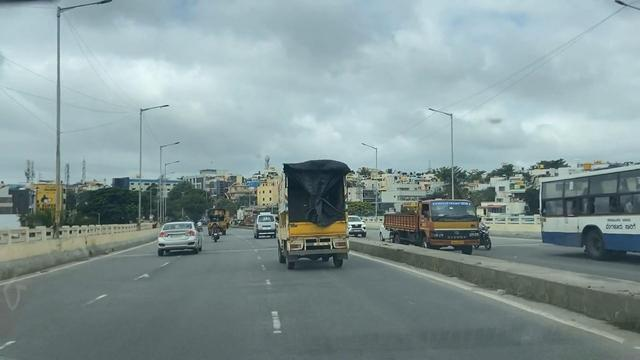HMV: (530, 166, 640, 258), (277, 158, 352, 271), (381, 192, 481, 252)
